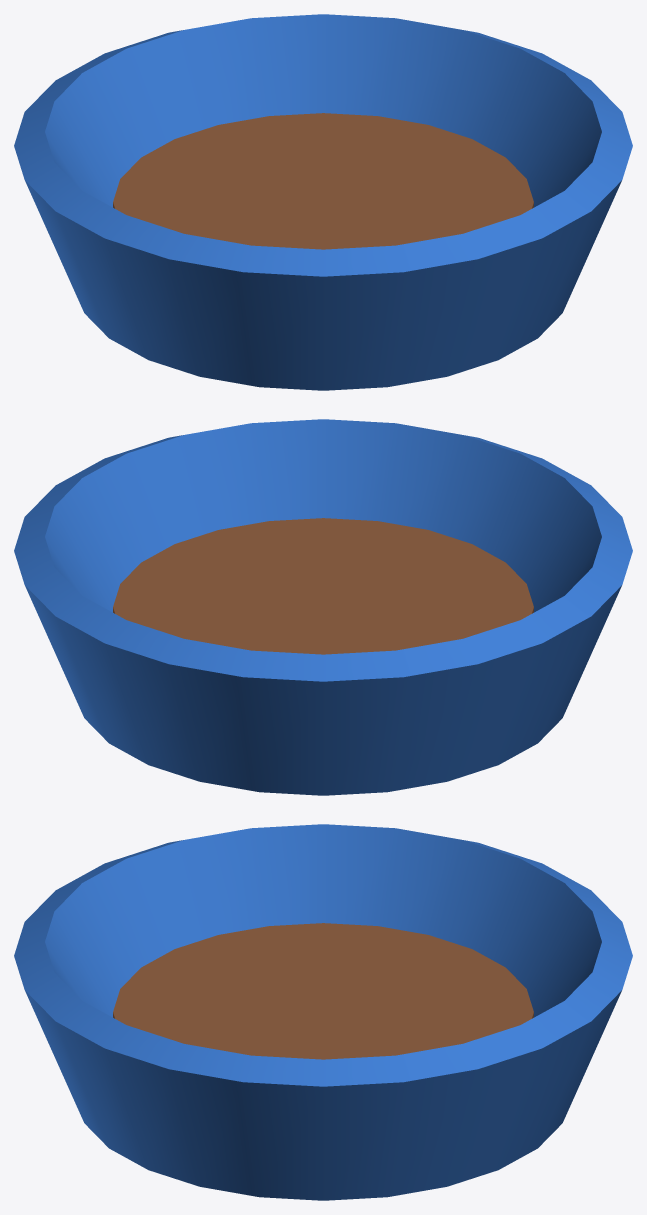
The model's file is cat_bowl.glb.
3 views of the same model, one above another, from view 1: azimuth 30°, elevation 25°; view 2: azimuth 150°, elevation 25°; view 3: azimuth 270°, elevation 25° (orthographic).
Visible parts, largest first — view 1: bowl, food; view 2: bowl, food; view 3: bowl, food.
Part boxes in pixels (x1,y1,x2,y2): bowl: (14,14,632,390); food: (113,113,533,249); bowl: (14,419,632,795); food: (113,518,533,654); bowl: (14,824,632,1200); food: (113,923,533,1059).
Bounding box in the file's own units: 0.2 × 0.055 × 0.2.
